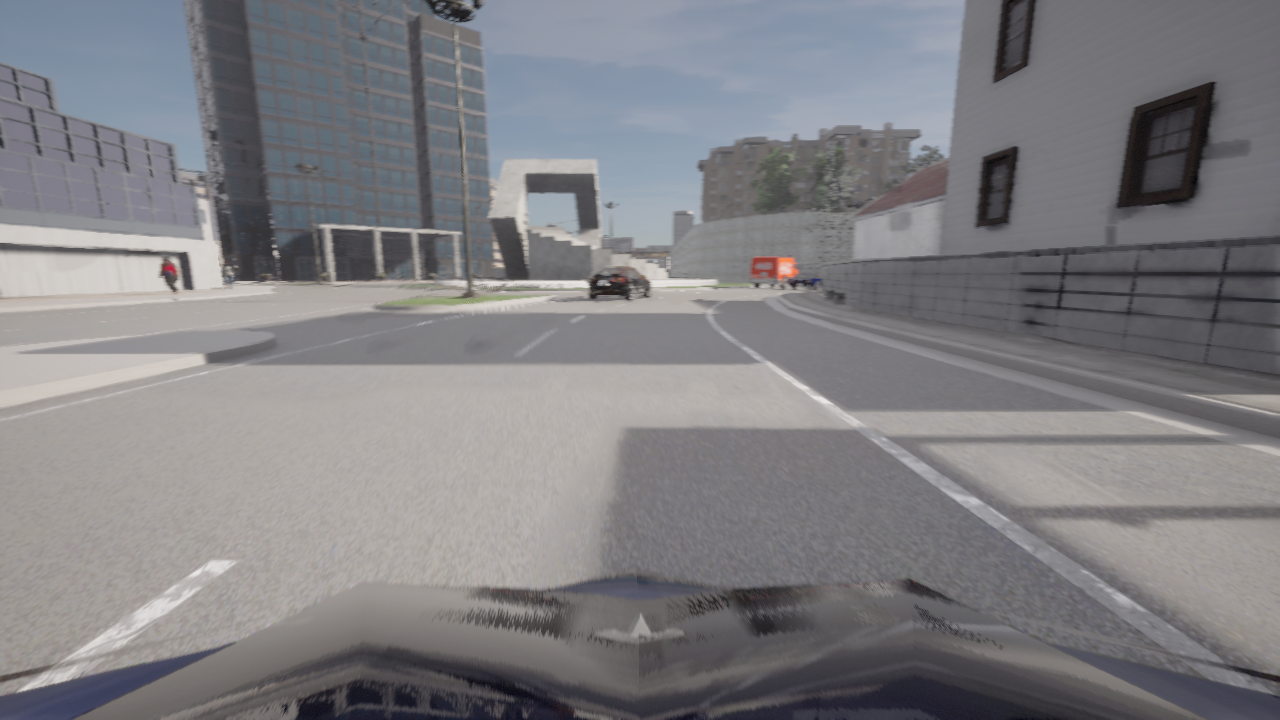cyclist: (0, 569, 1279, 719), (587, 267, 651, 300), (749, 257, 802, 288), (788, 272, 822, 290)
pedestrian: (159, 259, 179, 294), (222, 262, 234, 289)
